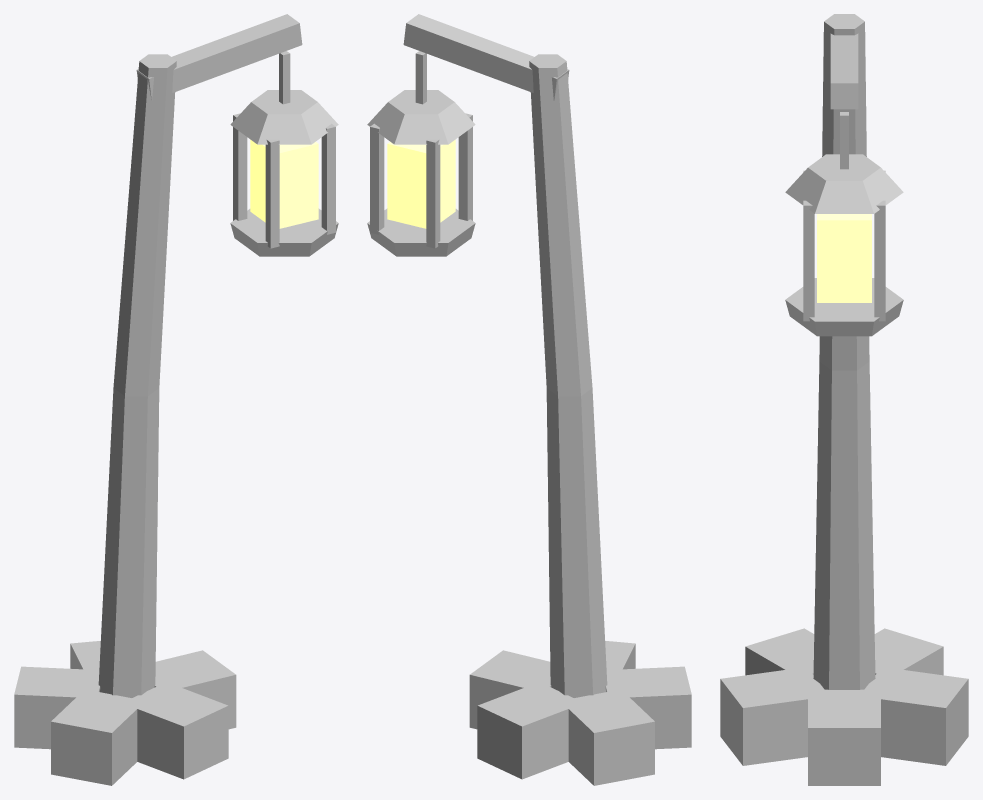
The model's file is curse_lantern.glb.
The picture shows the model from 3 angles, left to right: view 1: azimuth 30°, elevation 25°; view 2: azimuth 150°, elevation 25°; view 3: azimuth 270°, elevation 25°; orthographic projection. The views are drawn at different scales.
Parts seen in each view (by area): view 1: curse_lantern; view 2: curse_lantern; view 3: curse_lantern.
Boxes of the visible parts, x1=… form: curse_lantern: x1=14, y1=14, x2=338, y2=785; curse_lantern: x1=367, y1=14, x2=691, y2=785; curse_lantern: x1=720, y1=14, x2=968, y2=785.
Size of the model in its own units: 0.81 by 1.79 by 0.544.
